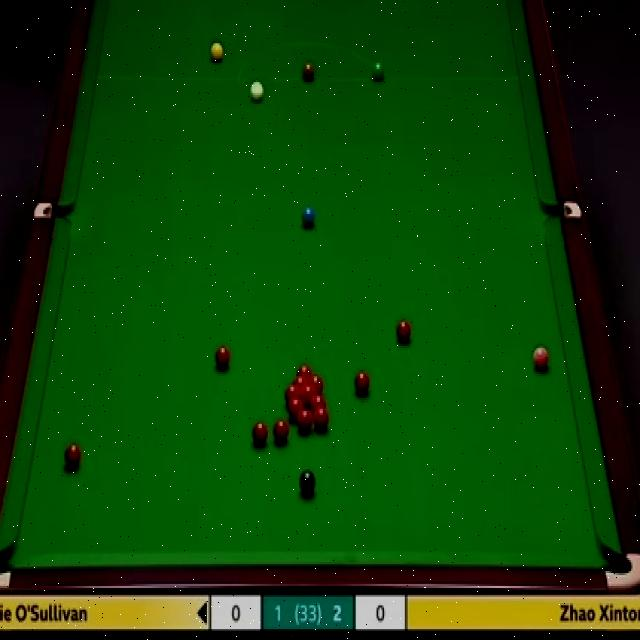black-ball: (299, 468, 316, 496)
blue-ball: (301, 205, 315, 225)
brown-ball: (301, 63, 316, 80)
green-ball: (371, 58, 386, 84)
pink-ball: (531, 345, 550, 371)
red-ball: (64, 442, 84, 470), (353, 369, 370, 398), (252, 418, 268, 446), (272, 419, 287, 447), (298, 408, 314, 432), (396, 319, 411, 344), (302, 384, 318, 407), (216, 345, 230, 371), (288, 396, 302, 420), (284, 385, 301, 404), (313, 409, 328, 430), (308, 374, 322, 394), (311, 396, 327, 412), (292, 374, 309, 388), (296, 362, 314, 375)
white-ball: (250, 80, 263, 101)
yellow-ball: (210, 42, 225, 63)
